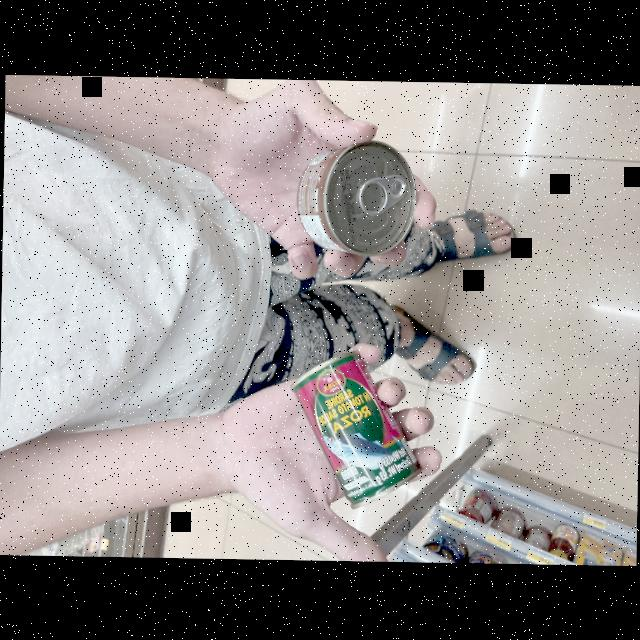can: (282, 326, 410, 524), (281, 132, 427, 272)
